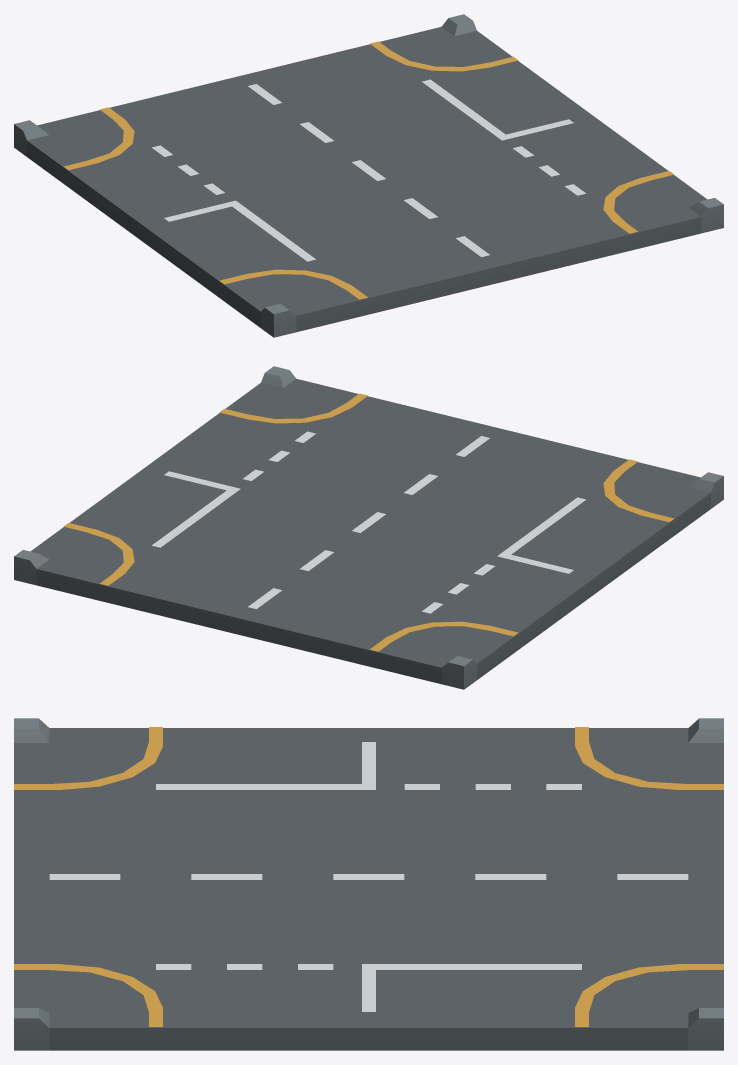
The model's file is road-junction.glb.
3 renders of one model, top to bottom at view 1: azimuth 30°, elevation 25°; view 2: azimuth 150°, elevation 25°; view 3: azimuth 270°, elevation 25°, orthographic. The views are drawn at different scales.
Parts seen in each view (by area): view 1: road_junction; view 2: road_junction; view 3: road_junction.
Part boxes in pixels (x1,y1,x2,y2): road_junction: [14, 14, 723, 337]; road_junction: [14, 366, 723, 689]; road_junction: [14, 718, 723, 1050].
Size of the model in its own units: 2 by 0.1 by 2.
1 material, 1 textured.
